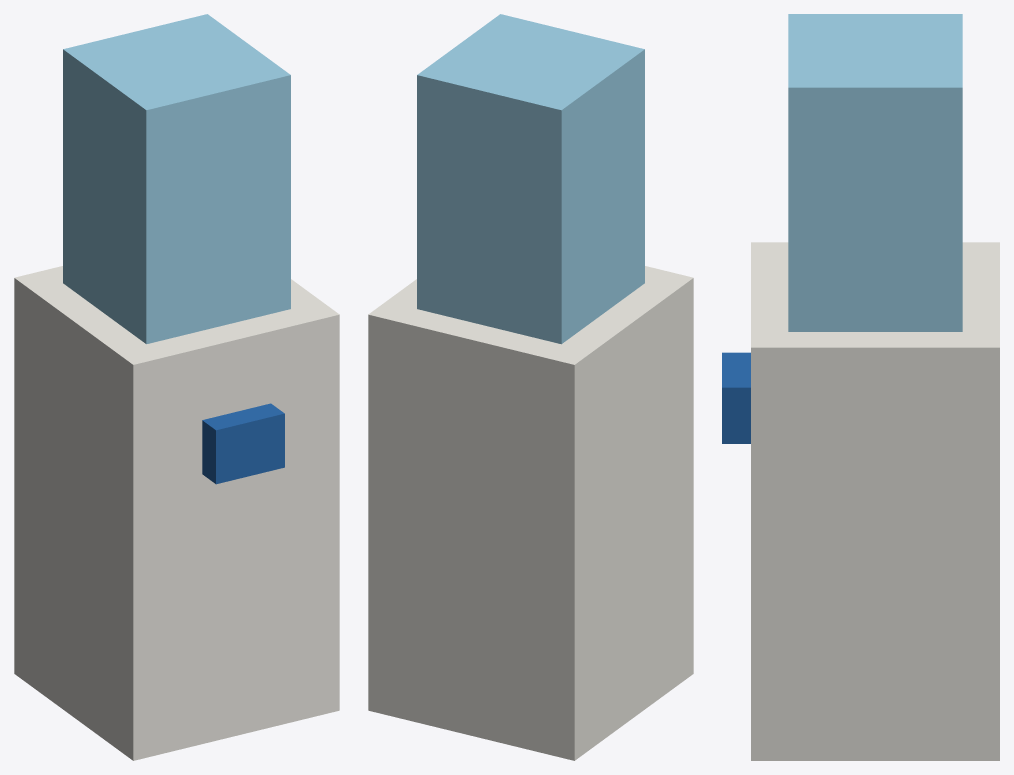
Rendered from WaterCooler.fbx.
3 renders of one model, left to right at view 1: azimuth 30°, elevation 25°; view 2: azimuth 150°, elevation 25°; view 3: azimuth 270°, elevation 25°, orthographic. The views are drawn at different scales.
Visible parts, largest first — view 1: WaterCooler_Mesh; view 2: WaterCooler_Mesh; view 3: WaterCooler_Mesh.
Boxes of the visible parts, <box> form: WaterCooler_Mesh: <box>14,14,339,760</box>; WaterCooler_Mesh: <box>368,14,693,760</box>; WaterCooler_Mesh: <box>722,14,999,760</box>.
Size of the model in its own units: 0.6 by 1.75 by 0.67.
1 material, 1 textured.
